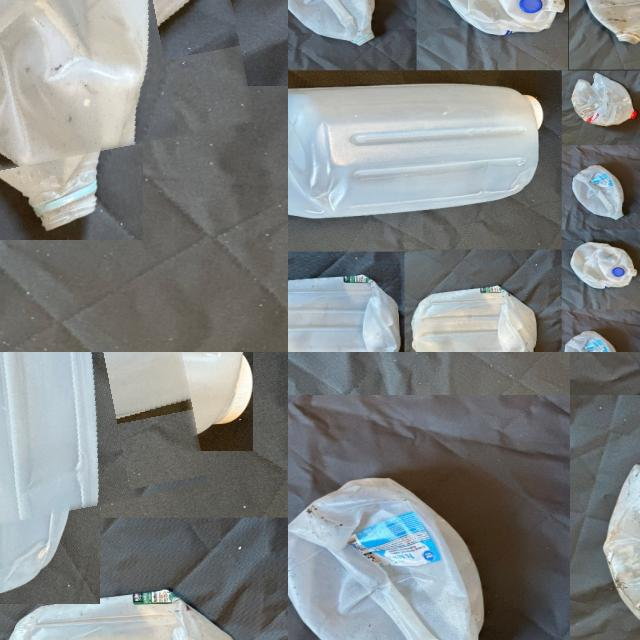milk-jug: (0, 0, 237, 180), (0, 352, 192, 545), (288, 469, 486, 640), (288, 85, 541, 215), (0, 578, 251, 640), (288, 271, 396, 352), (409, 285, 536, 352), (442, 0, 556, 41), (565, 76, 639, 130), (288, 0, 371, 44), (564, 244, 638, 292), (570, 164, 630, 220), (578, 0, 640, 48), (555, 330, 623, 352)
